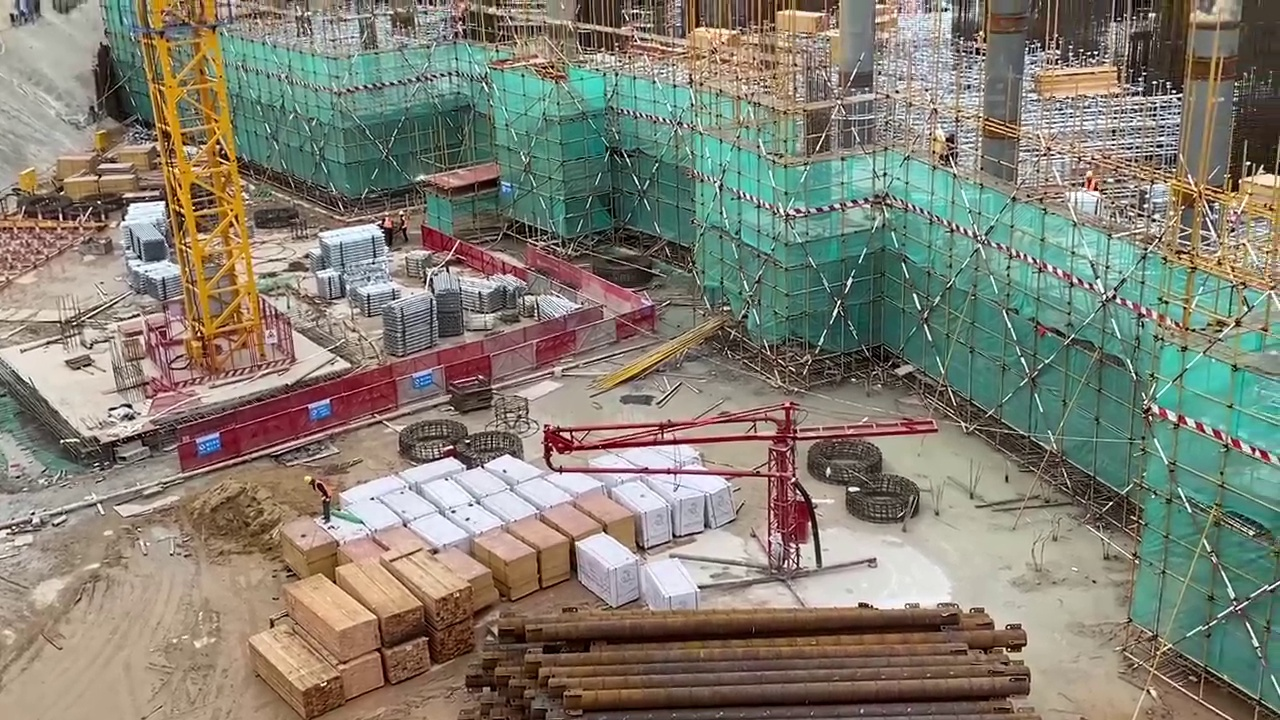board: (474, 486, 633, 609), (282, 517, 334, 570)
fence: (180, 404, 300, 471), (303, 367, 407, 438), (405, 337, 545, 388), (534, 299, 650, 357)
person: (301, 476, 334, 526), (380, 212, 395, 250), (397, 209, 410, 245)
rebar: (457, 610, 1066, 719)
scaffold: (386, 296, 441, 350), (125, 253, 184, 300), (320, 225, 387, 266), (428, 264, 462, 334), (350, 276, 401, 314), (457, 275, 504, 309), (524, 290, 575, 319), (121, 222, 163, 257)
wood: (257, 541, 475, 706)
